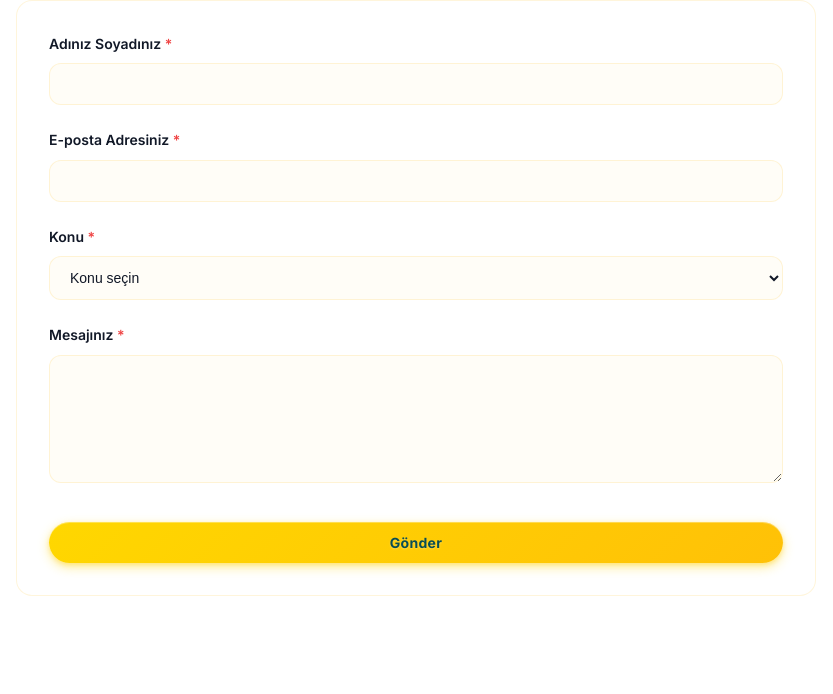
it: ContactForm › handles API errors
The image size is (833, 694).
Type "Test User" into the field labelled "Adınız Soyadınız *" at [416, 84], box [49,63,783,105]
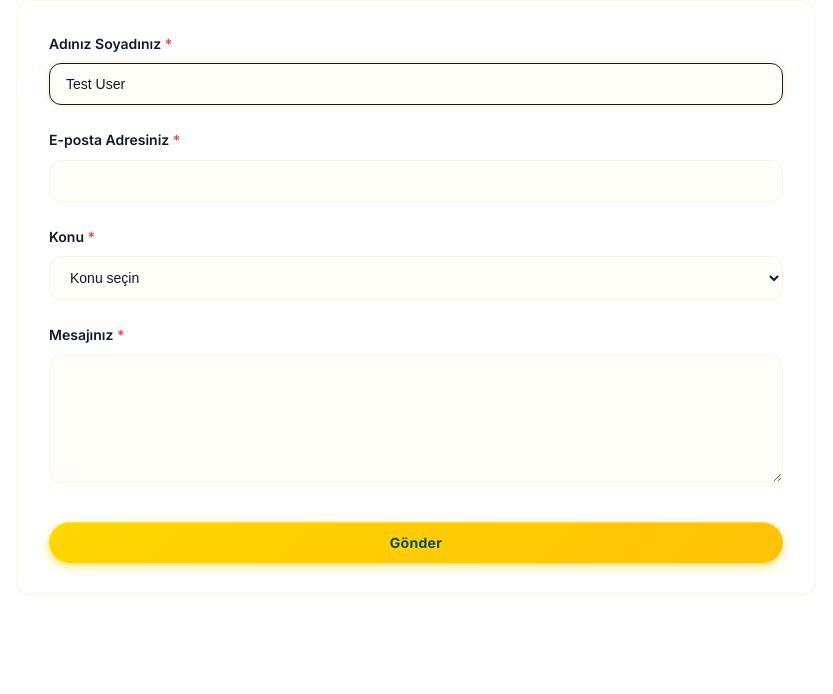
Type "test@example.com" into the field labelled "E-posta Adresiniz *" at [416, 181], box [49,160,783,202]
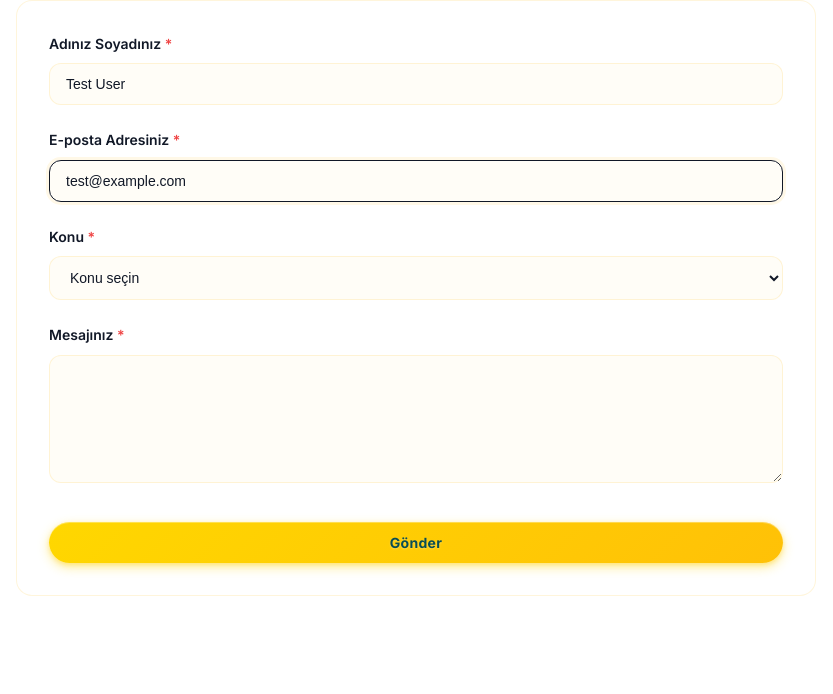
Select "Genel Bilgi" in the dropdown labelled "Konu *" at [416, 278], box [49,256,783,300]
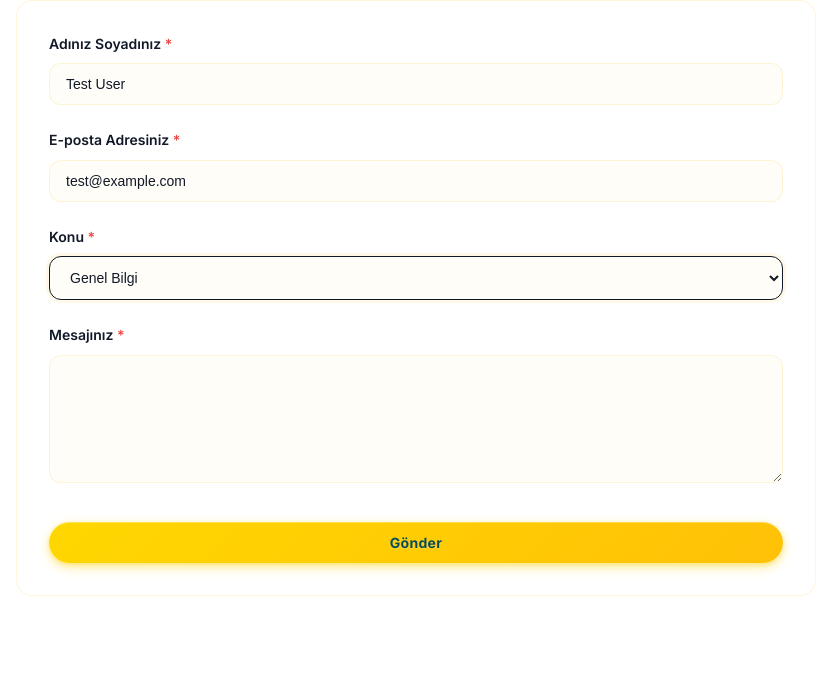
Type "Test message" into the text box labelled "Mesajınız *" at [416, 419], box [49,355,783,483]
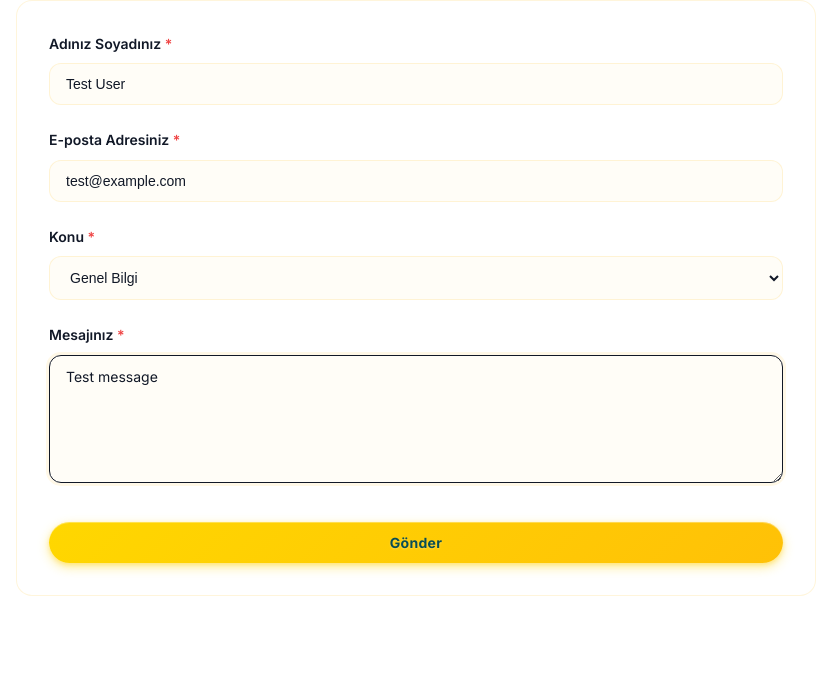
Click the button "Gönder" at [416, 543], box [49,522,783,563]
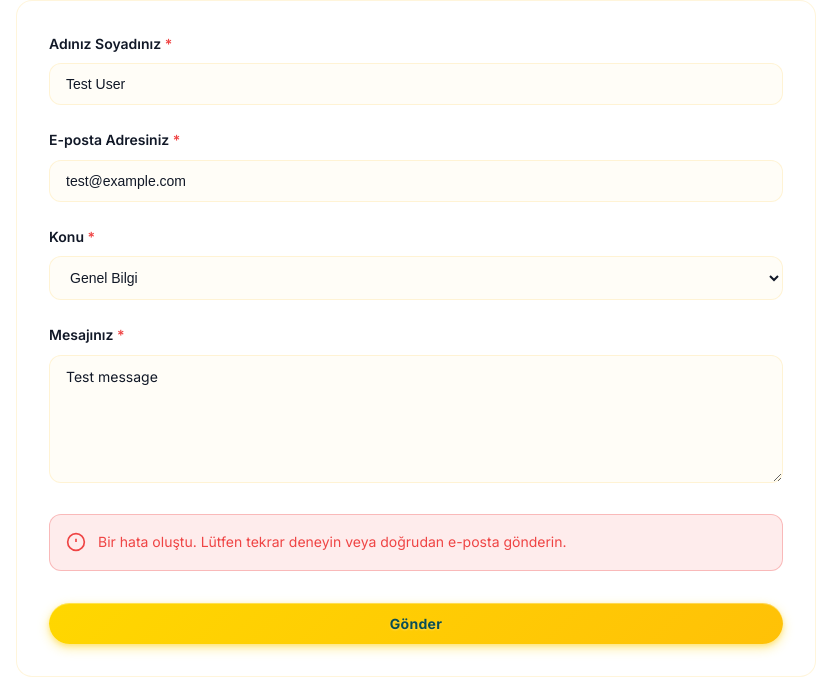
Now the text "Bir hata oluştu. Lütfen tekrar deneyin veya doğrudan e-posta gönderin." is shown, box [49,514,783,571]
